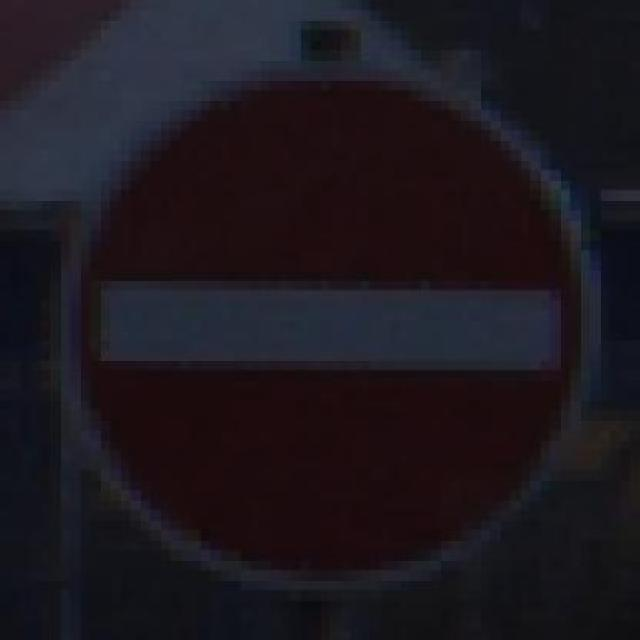B2: (76, 65, 584, 585)
